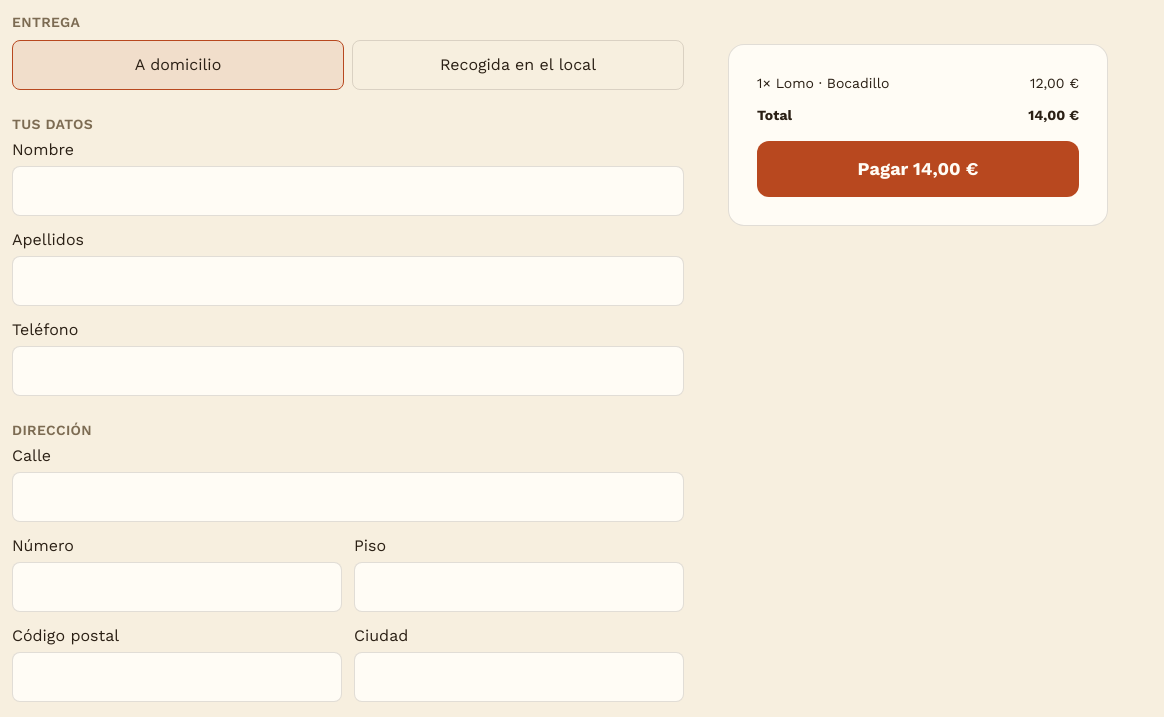
FormularioCheckout › avisa de un artículo agotado y ofrece quitarlo del pedido
Click the button "Recogida en el local": (518, 65) [352, 40, 684, 90]
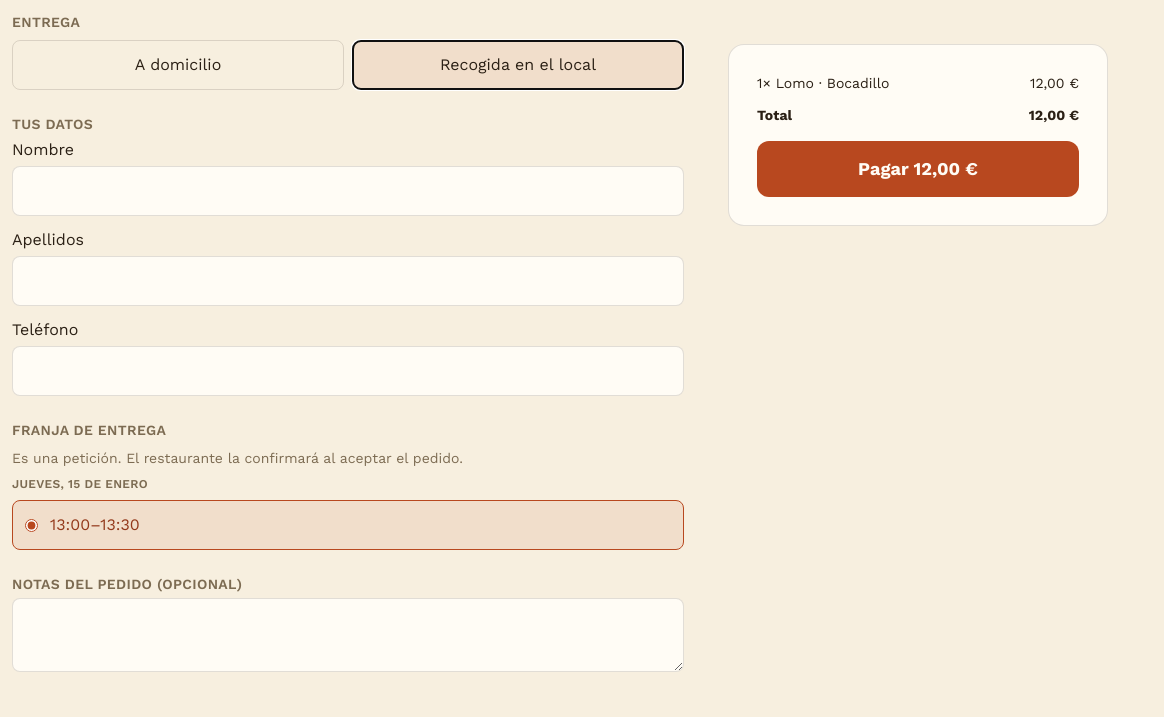
In the field labelled "Nombre": (348, 191) [12, 166, 684, 216], type "Ana"
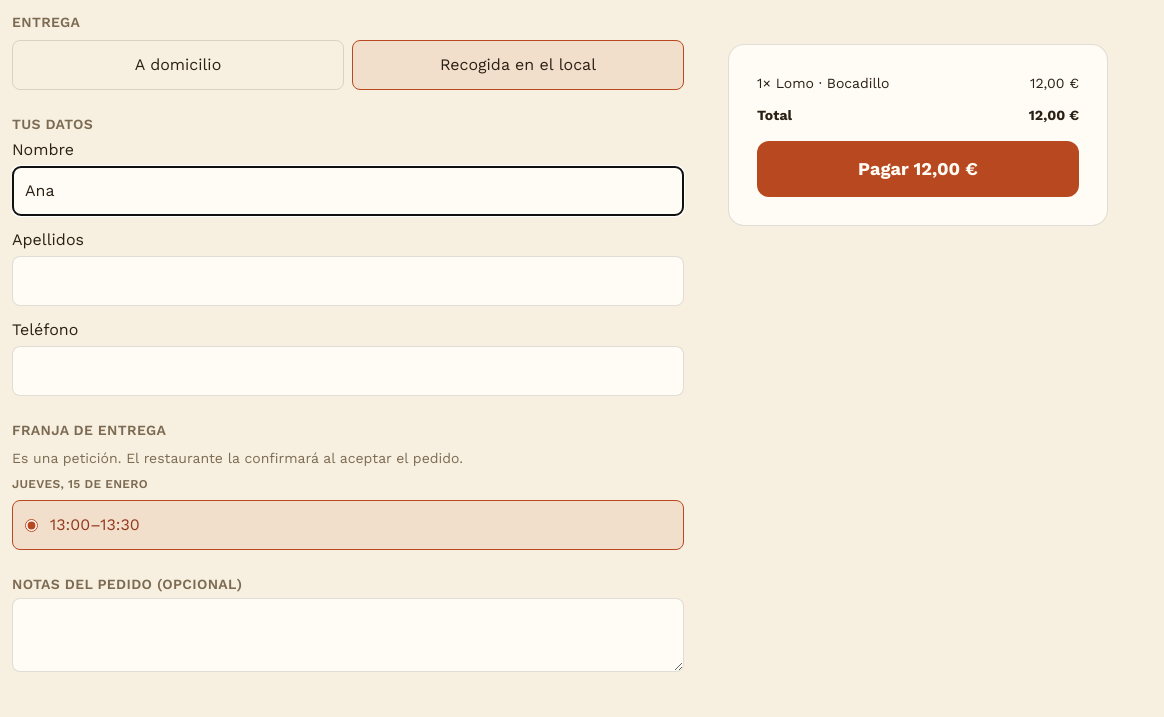
In the field labelled "Apellidos": (348, 281) [12, 256, 684, 306], type "García"
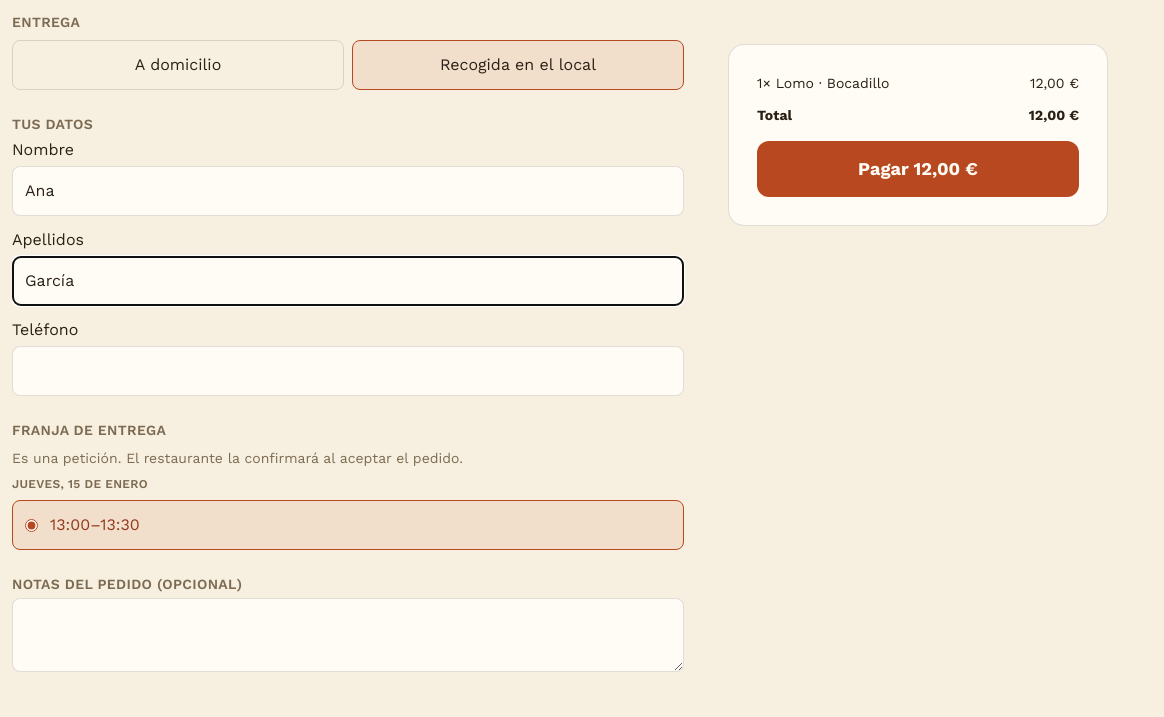
In the field labelled "Teléfono": (348, 371) [12, 346, 684, 396], type "600111222"
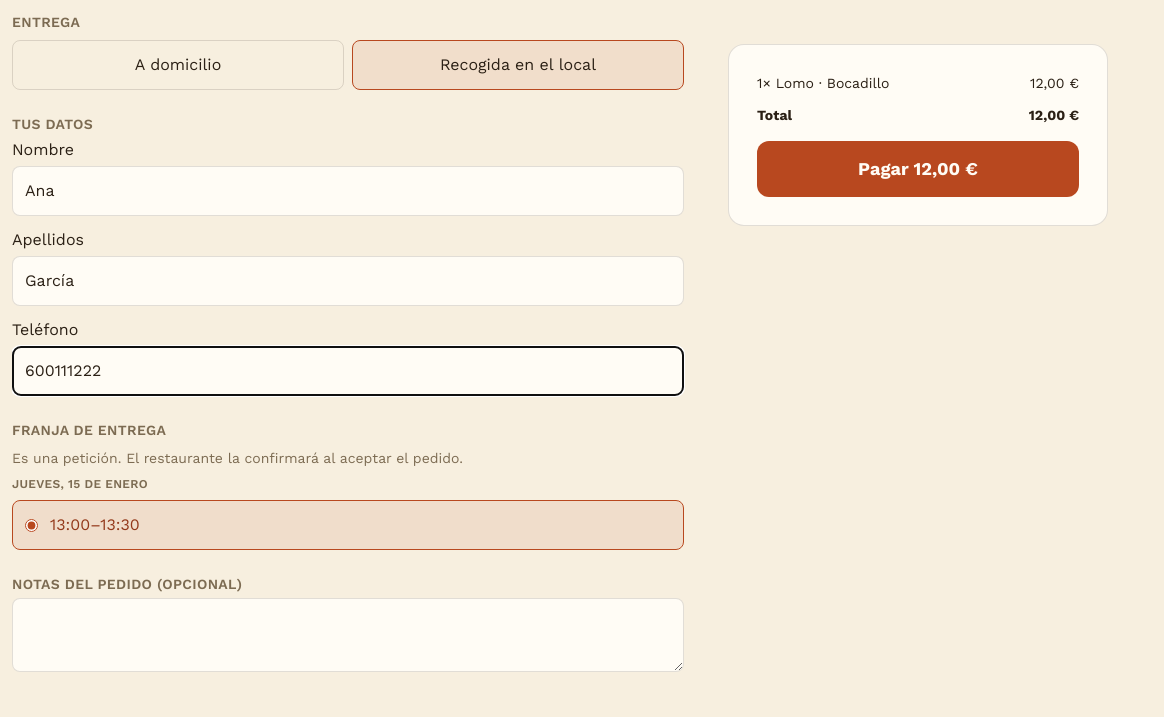
Click the button "Pagar 12,00 €": (918, 169) [757, 141, 1079, 197]
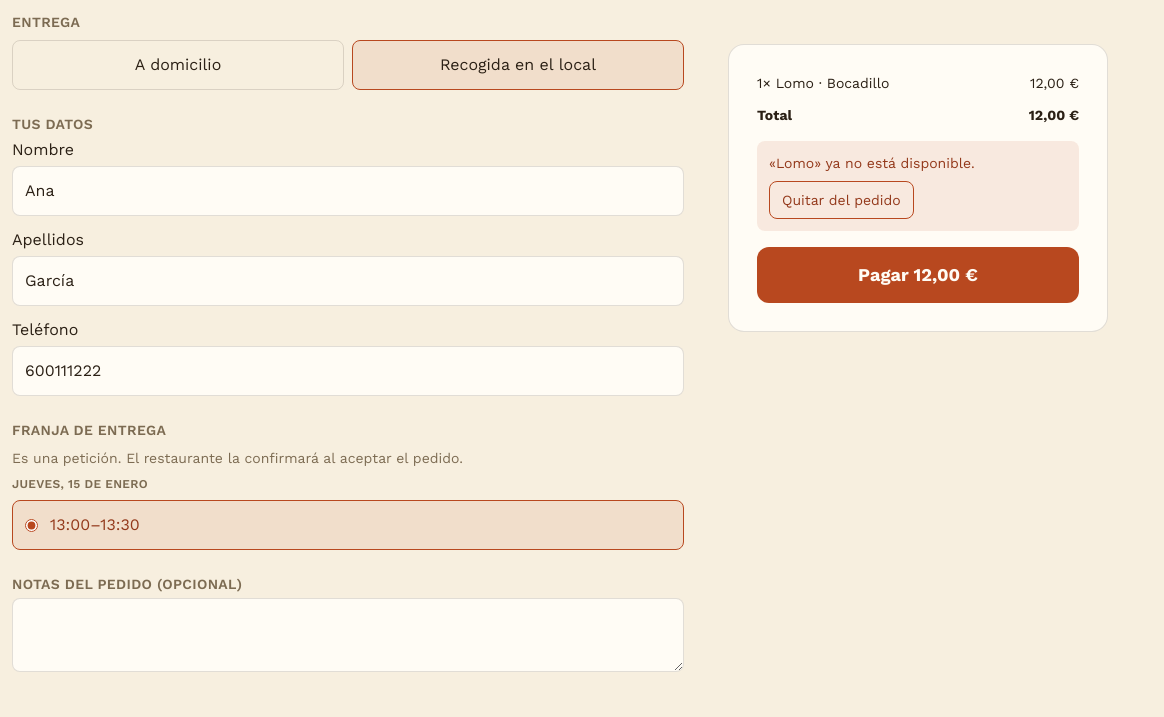
Result: the text "«Lomo» ya no está disponible." is shown at [769, 155, 975, 171]
Result: the button "Quitar del pedido" is shown at [769, 181, 914, 219]
